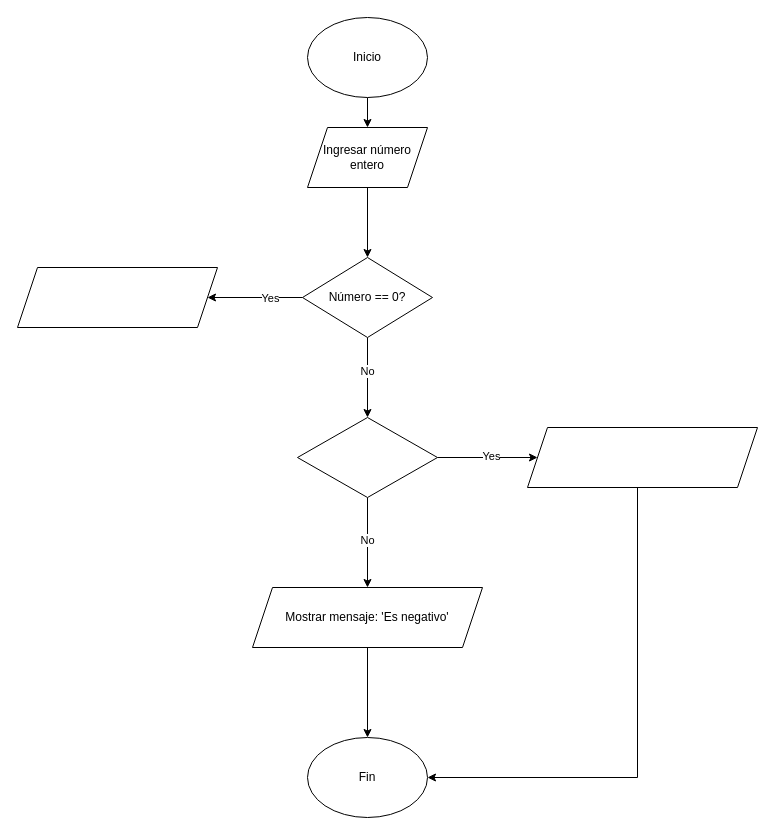
Image size: 775x835. Some labels were removed from this diagram. The centre of each missing label's shape, as x and y in pixels:
"Mostrar mensaje: 'Es cero'" belongs at pixel 117 297.
"Mostrar Mensaje: 'Es positivo'" belongs at pixel 642 457.
"Número > 0?" belongs at pixel 367 457.
